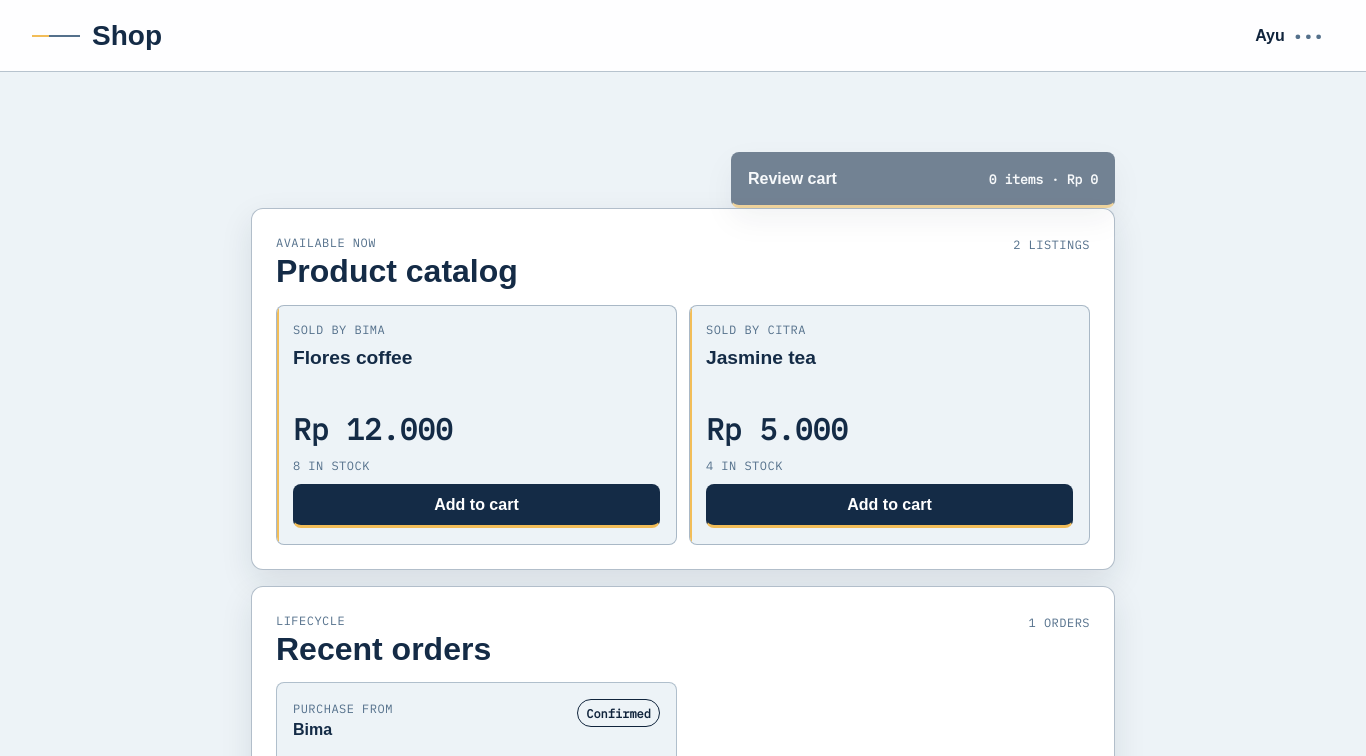
Test: Buyer › does not mutate the cart or report success after a non-OK response body
This screenshot has width=1366, height=756.
Step 1. Click the button with aria-label "Add Flores coffee to cart" → (476, 506), box 293,484 -> 660,528
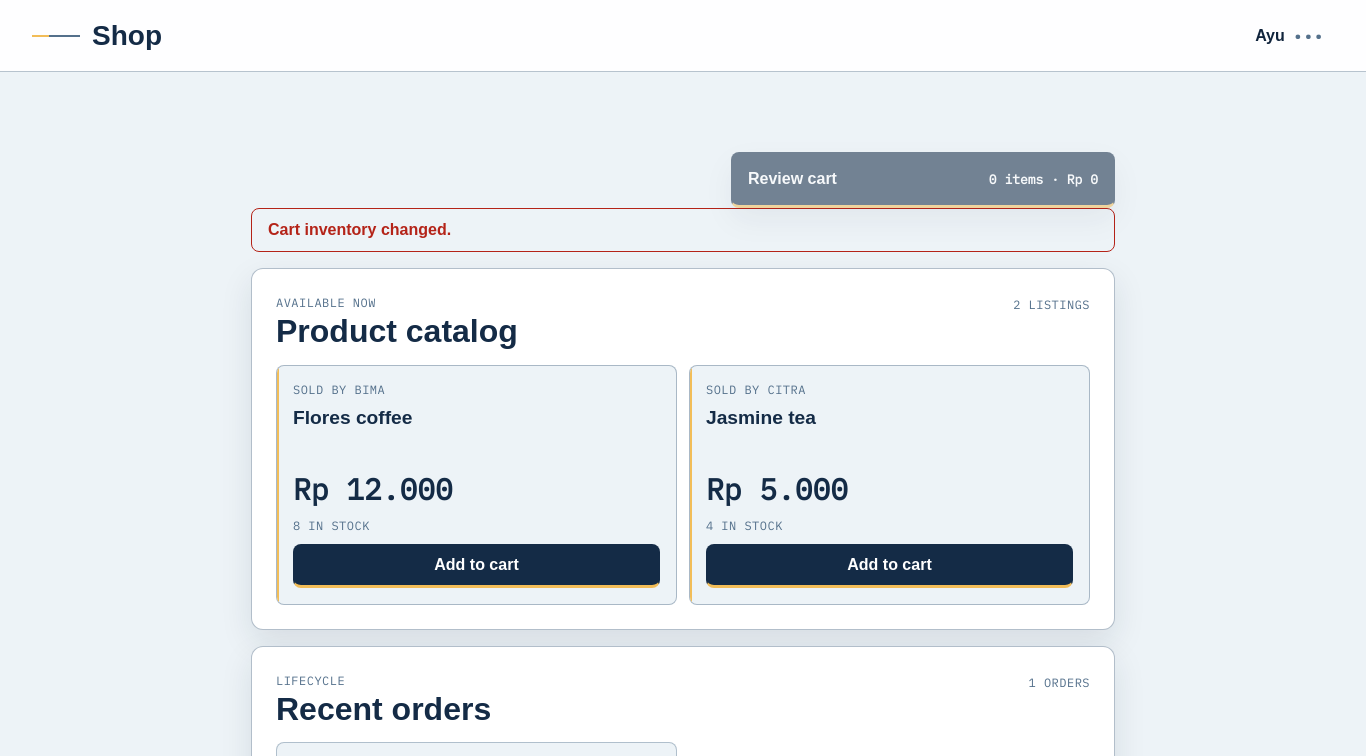
Expected: the button "Review cart 0 items · Rp 0" is disabled, 731,152 -> 1115,208
Expected: the message reads "Cart inventory changed.", 268,221 -> 451,238
